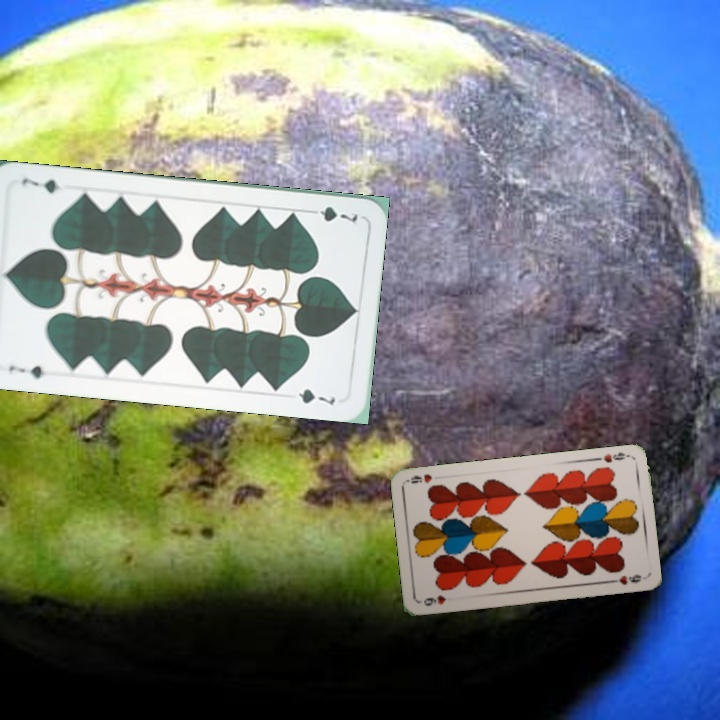G7: (303, 202, 361, 225), (4, 361, 47, 382)
H9: (592, 448, 632, 465), (419, 591, 448, 608)
